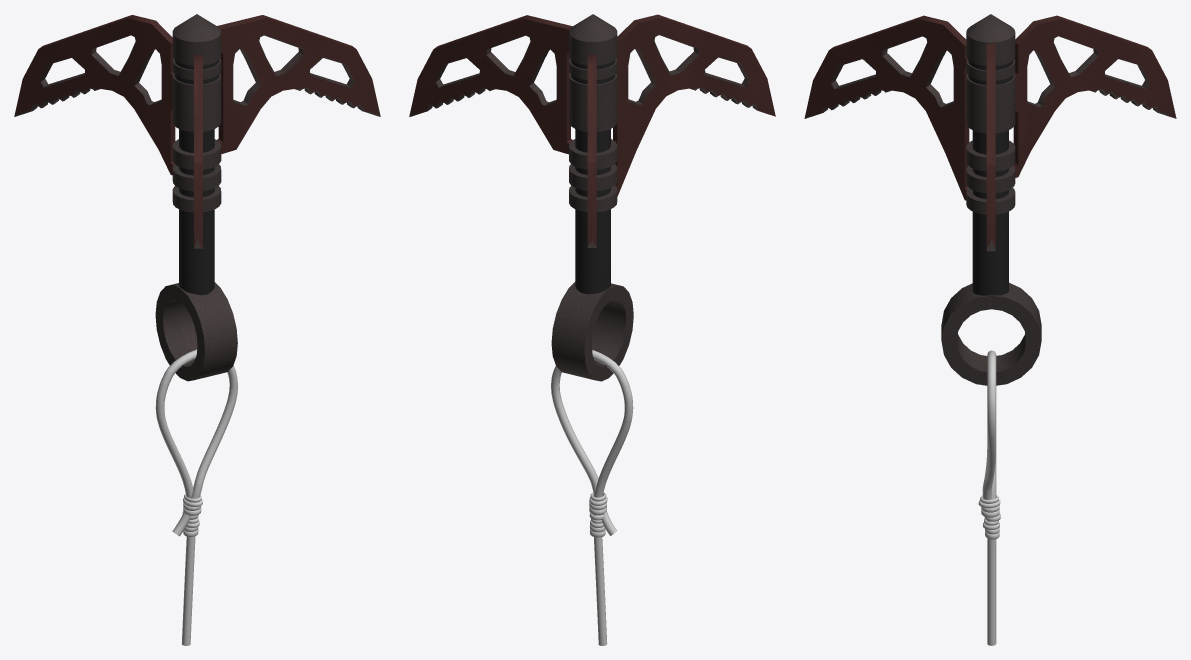
The model's file is SM_GrappleHook.fbx.
3 views of the same model, side by side, from view 1: azimuth 30°, elevation 25°; view 2: azimuth 150°, elevation 25°; view 3: azimuth 270°, elevation 25° (orthographic).
Visible parts, largest first — view 1: Hooks, Base, Wire, Wire_Knot; view 2: Hooks, Base, Wire, Wire_Knot; view 3: Hooks, Base, Wire, Wire_Knot.
Boxes of the visible parts, box(x1,y1,x2,y2) form: Hooks: box(14, 15, 380, 248); Base: box(155, 14, 237, 381); Wire: box(155, 349, 237, 645); Wire_Knot: box(182, 494, 202, 536); Hooks: box(409, 14, 775, 247); Base: box(551, 14, 633, 381); Wire: box(551, 350, 633, 645); Wire_Knot: box(589, 492, 607, 537); Hooks: box(804, 15, 1176, 251); Base: box(941, 14, 1041, 385); Wire: box(982, 350, 996, 645); Wire_Knot: box(978, 495, 1000, 539).
Size of the model in its own units: 245 by 535 by 284.
